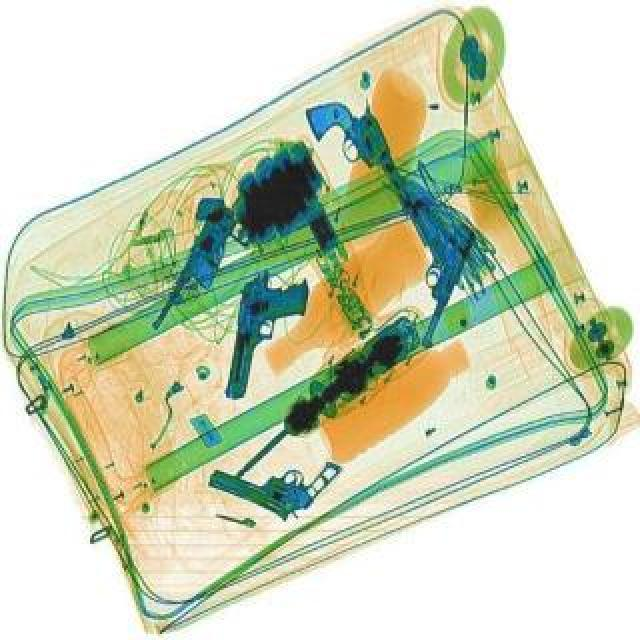gun: (302, 88, 434, 264), (358, 194, 482, 348), (150, 200, 266, 348), (200, 420, 344, 530), (222, 266, 310, 404)
